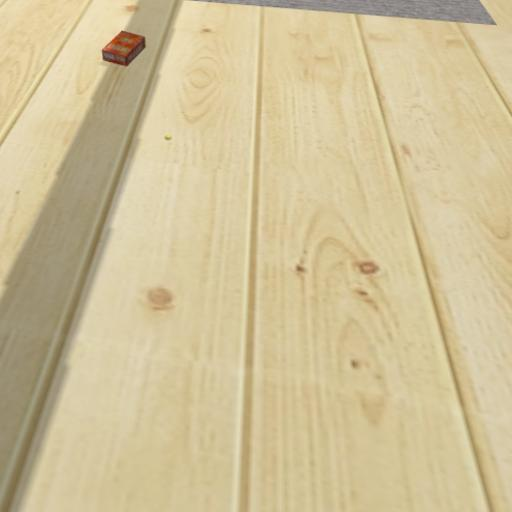BOX_R: (86, 14, 166, 84)
